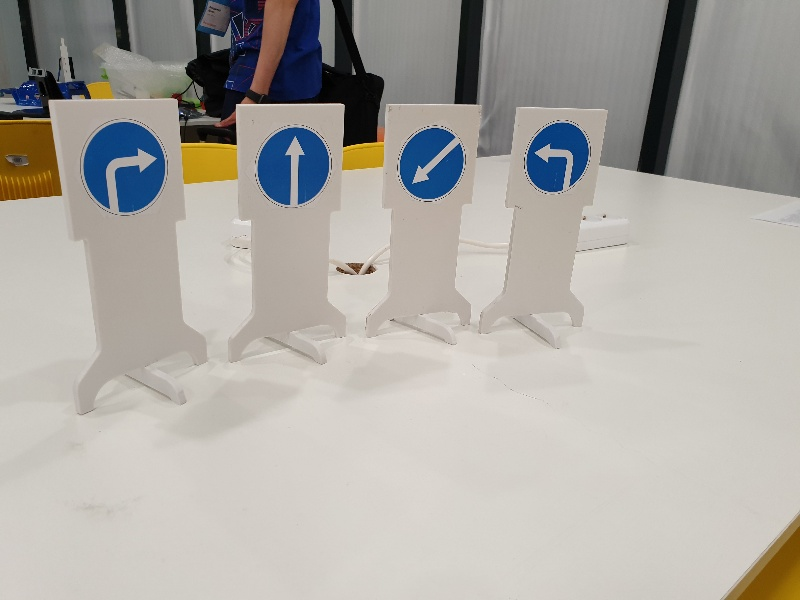Left: (519, 113, 595, 200)
Right: (69, 113, 175, 218)
forw: (247, 119, 337, 213)
prep: (390, 119, 471, 207)
